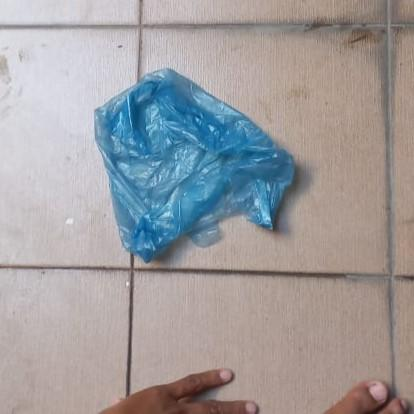Plastik: (92, 69, 296, 264)
